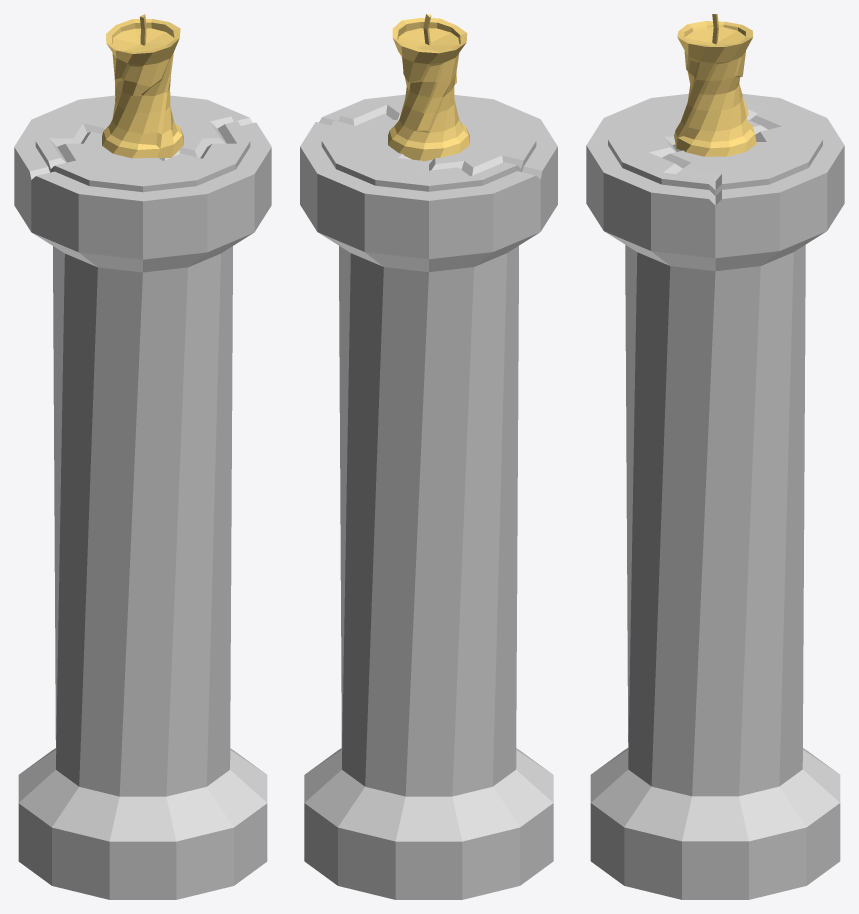
Rendered from 大烛台.glb.
3 renders of one model, left to right at view 1: azimuth 30°, elevation 25°; view 2: azimuth 150°, elevation 25°; view 3: azimuth 270°, elevation 25°, orthographic.
Parts seen in each view (by area): view 1: 高台柱, 蜡烛; view 2: 高台柱, 蜡烛; view 3: 高台柱, 蜡烛.
Part boxes in pixels (box(x1,y1,x2,y2)): 高台柱: box(14, 95, 271, 899); 蜡烛: box(102, 14, 183, 158); 高台柱: box(300, 94, 557, 899); 蜡烛: box(388, 14, 469, 161); 高台柱: box(586, 93, 844, 899); 蜡烛: box(674, 14, 756, 156).
Size of the model in its own units: 0.4 by 1.43 by 0.4.
